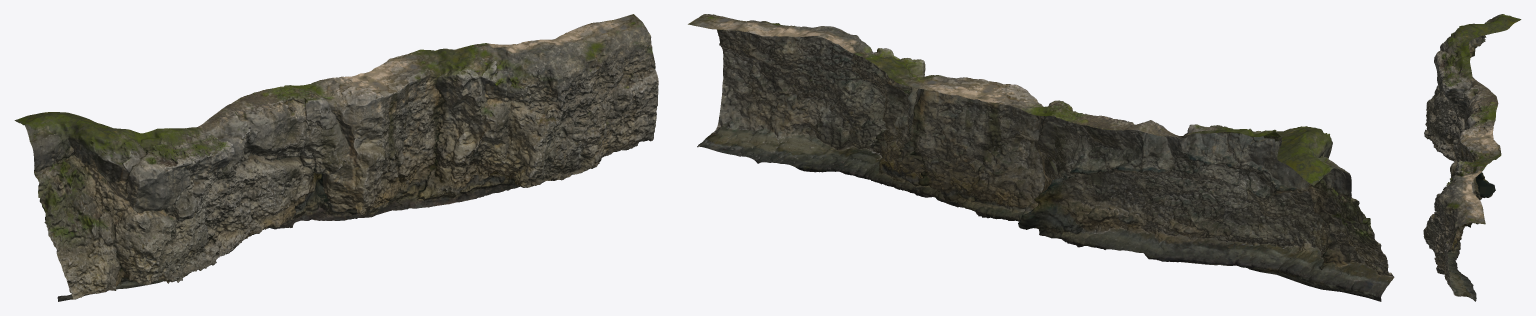
Rendered from coastal_cliff_02_4k.gltf.
The picture shows the model from 3 angles, left to right: view 1: azimuth 30°, elevation 25°; view 2: azimuth 150°, elevation 25°; view 3: azimuth 270°, elevation 25°; orthographic projection. The views are drawn at different scales.
Parts seen in each view (by area): view 1: coastal_cliff_02_LOD0; view 2: coastal_cliff_02_LOD0; view 3: coastal_cliff_02_LOD0.
Part boxes in pixels (bbox=[...]): coastal_cliff_02_LOD0: bbox=[14, 14, 658, 301]; coastal_cliff_02_LOD0: bbox=[688, 14, 1394, 301]; coastal_cliff_02_LOD0: bbox=[1423, 14, 1521, 301].
Bounding box in the file's own units: 40.93 × 10.05 × 8.65.
Materials: 1 (1 with a texture image).
